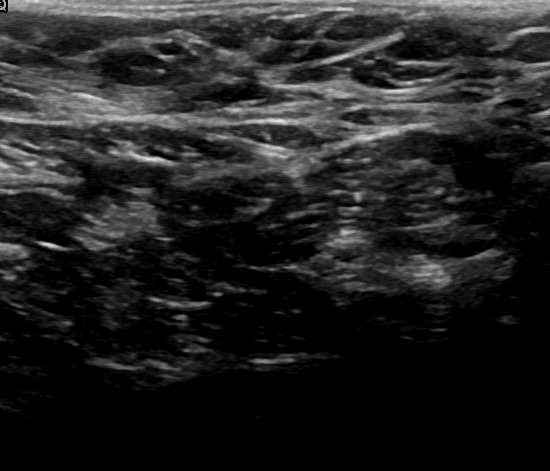Normal: (23, 12, 550, 442)
